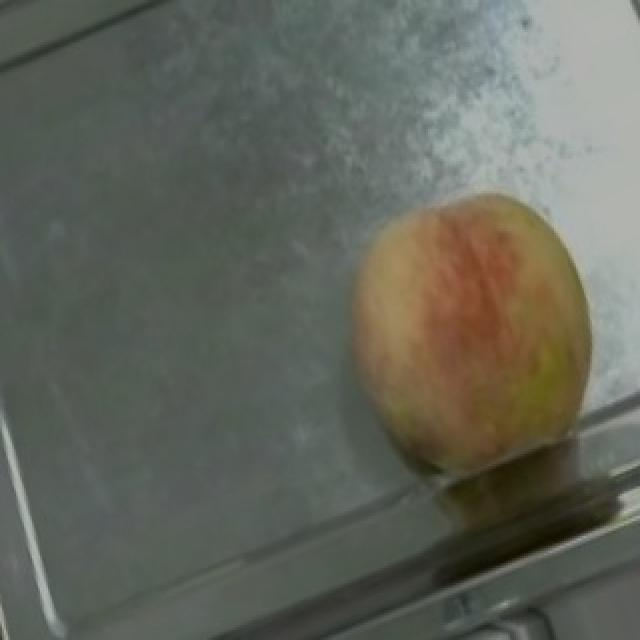Fruit: (300, 156, 626, 516)
